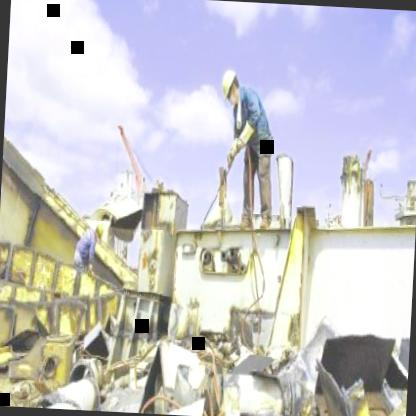helmet: (220, 65, 241, 108), (92, 220, 104, 243)
